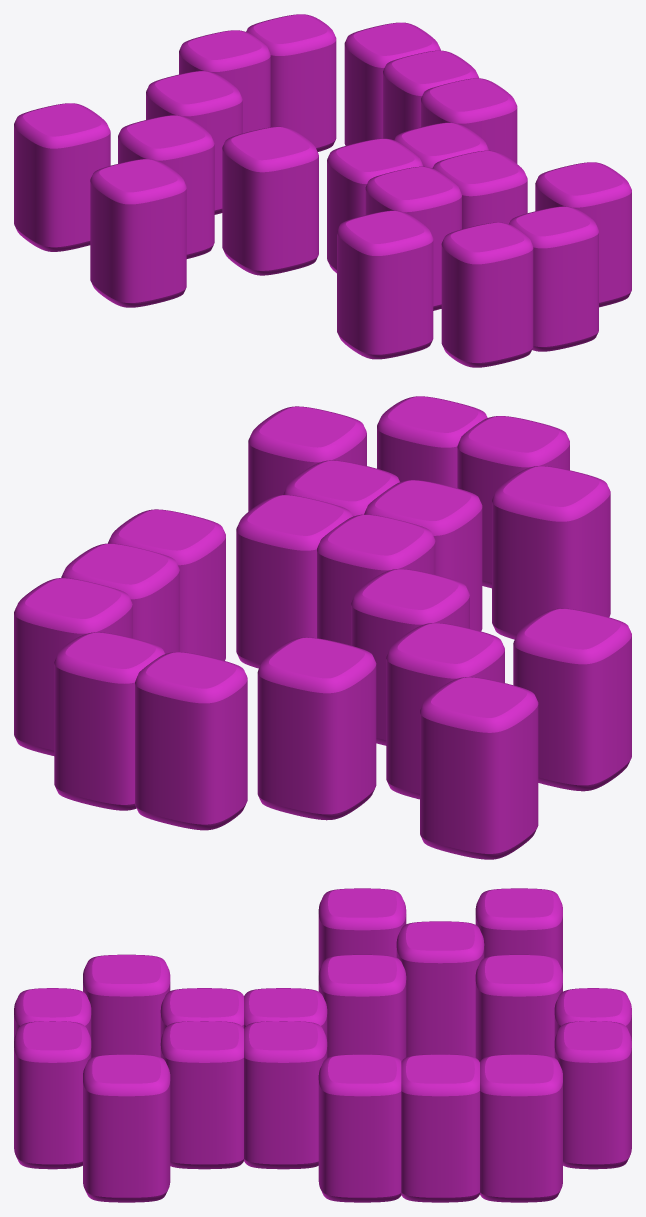
File: Ambersand.fbx
The picture shows the model from 3 angles, top to bottom: view 1: azimuth 30°, elevation 25°; view 2: azimuth 150°, elevation 25°; view 3: azimuth 270°, elevation 25°; orthographic projection. The views are drawn at different scales.
Visible parts, largest first — view 1: Ambersand; view 2: Ambersand; view 3: Ambersand.
Boxes of the visible parts, x1,y1,x2,y2 form: Ambersand: (14,14,631,367); Ambersand: (14,396,631,859); Ambersand: (14,888,631,1202).
Bounding box in the file's own units: 0.5146 × 0.14 × 0.6621.
